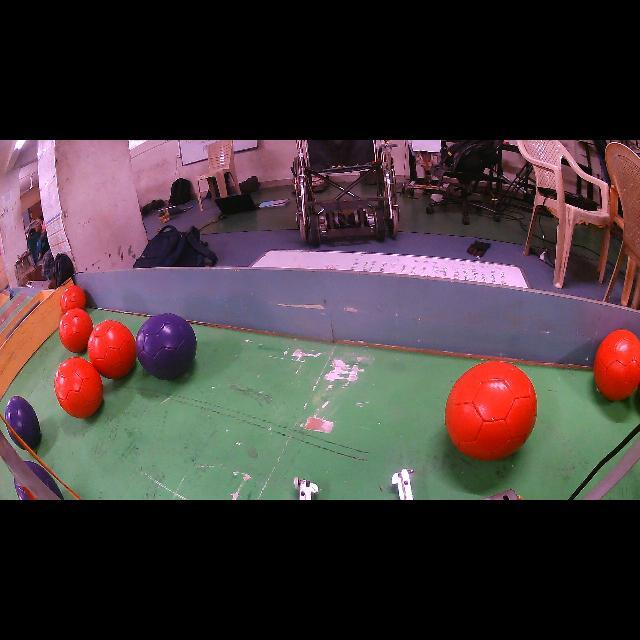P: (135, 314, 196, 380), (4, 396, 41, 449), (9, 431, 24, 449)
R: (445, 361, 538, 460), (594, 330, 640, 400), (54, 358, 102, 419), (88, 320, 136, 379), (59, 309, 92, 352), (60, 285, 86, 314)
